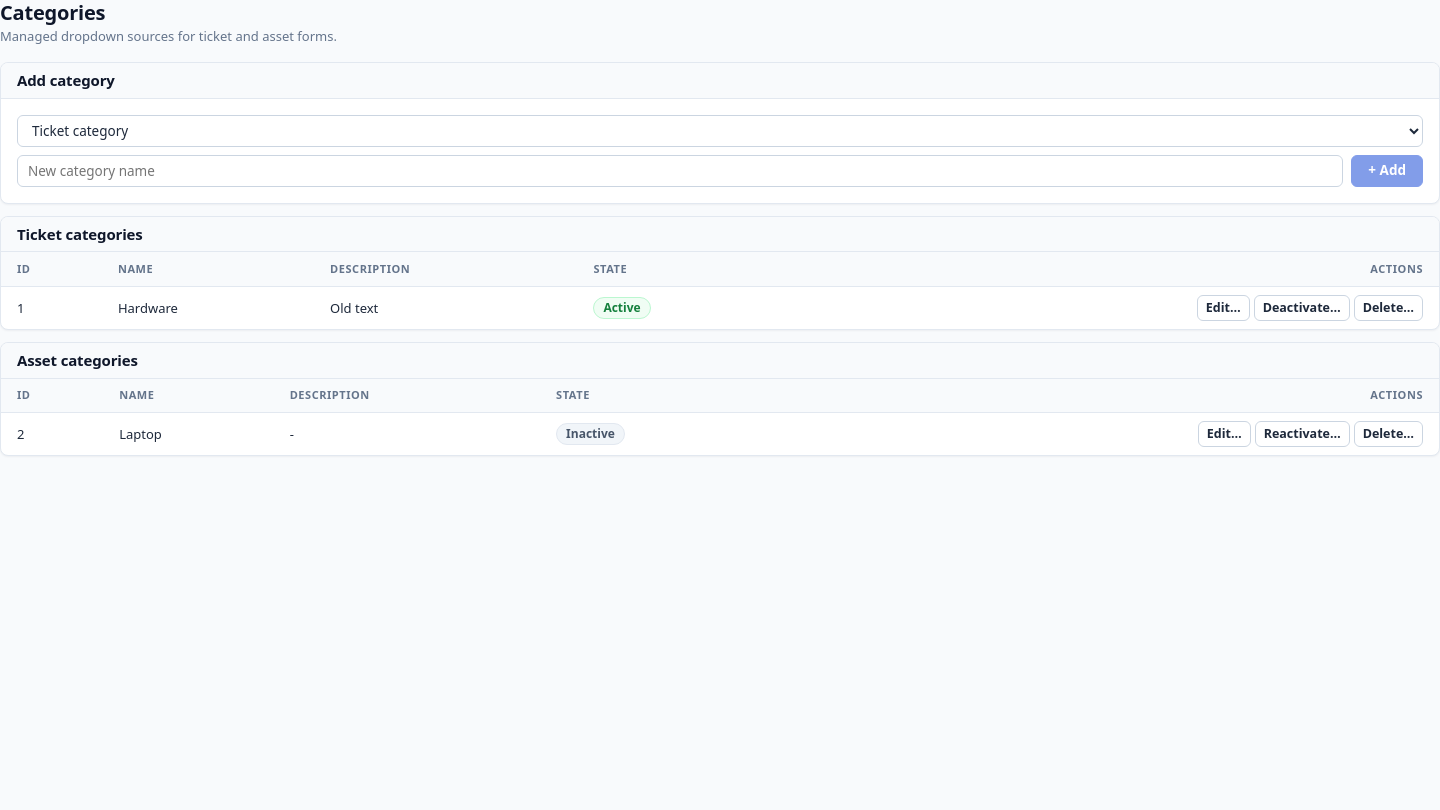
Test: Categories page › rejects blank names: disabled save + Enter still hits validation
Expected: the text "Hardware" is shown, [106,286,318,329]
Step 1. Click the button "Edit…" in the row of "Hardware" → (1223,308), box [1197,295,1250,321]
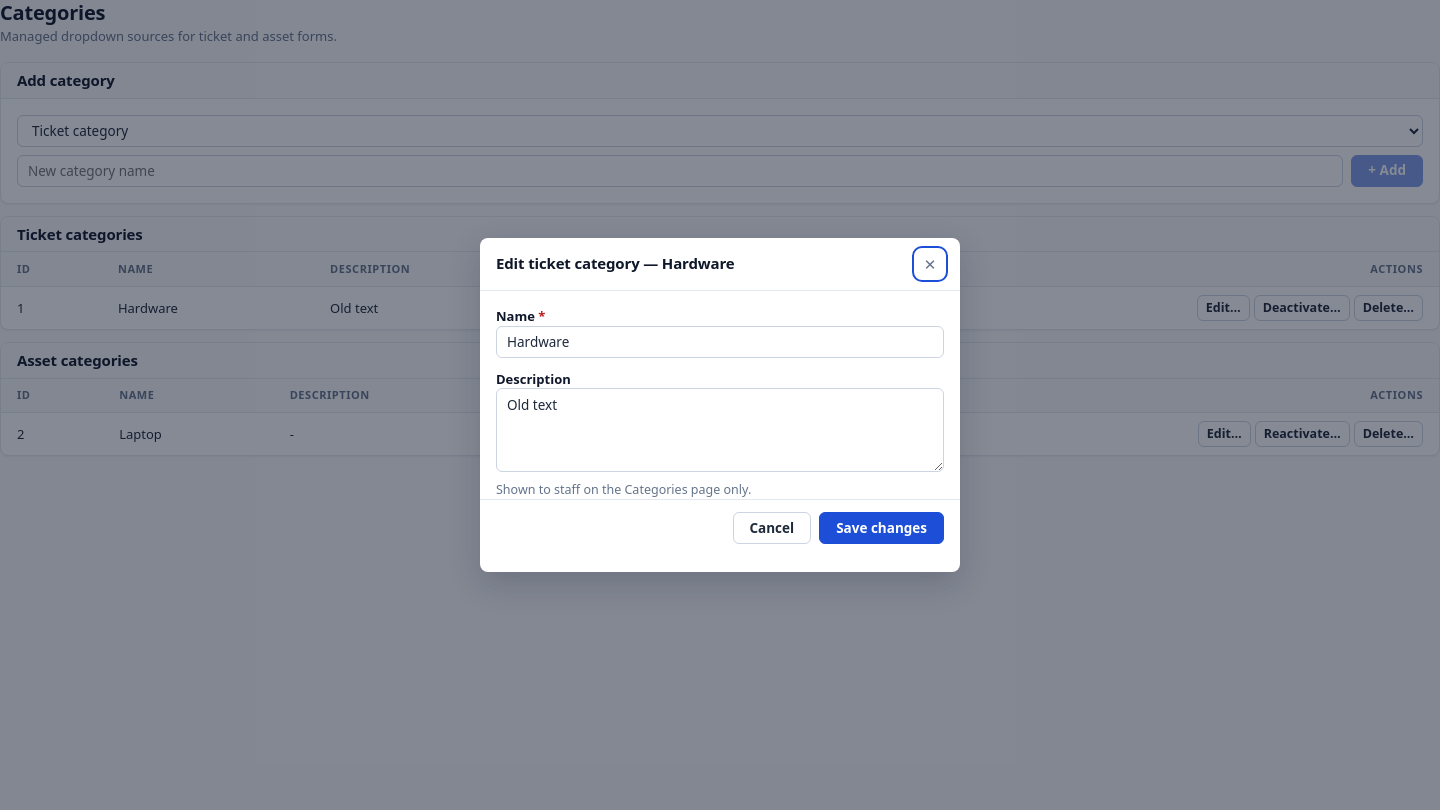
Step 2. Clear the field labelled "Name *" → (720,342), box [496,326,944,358]
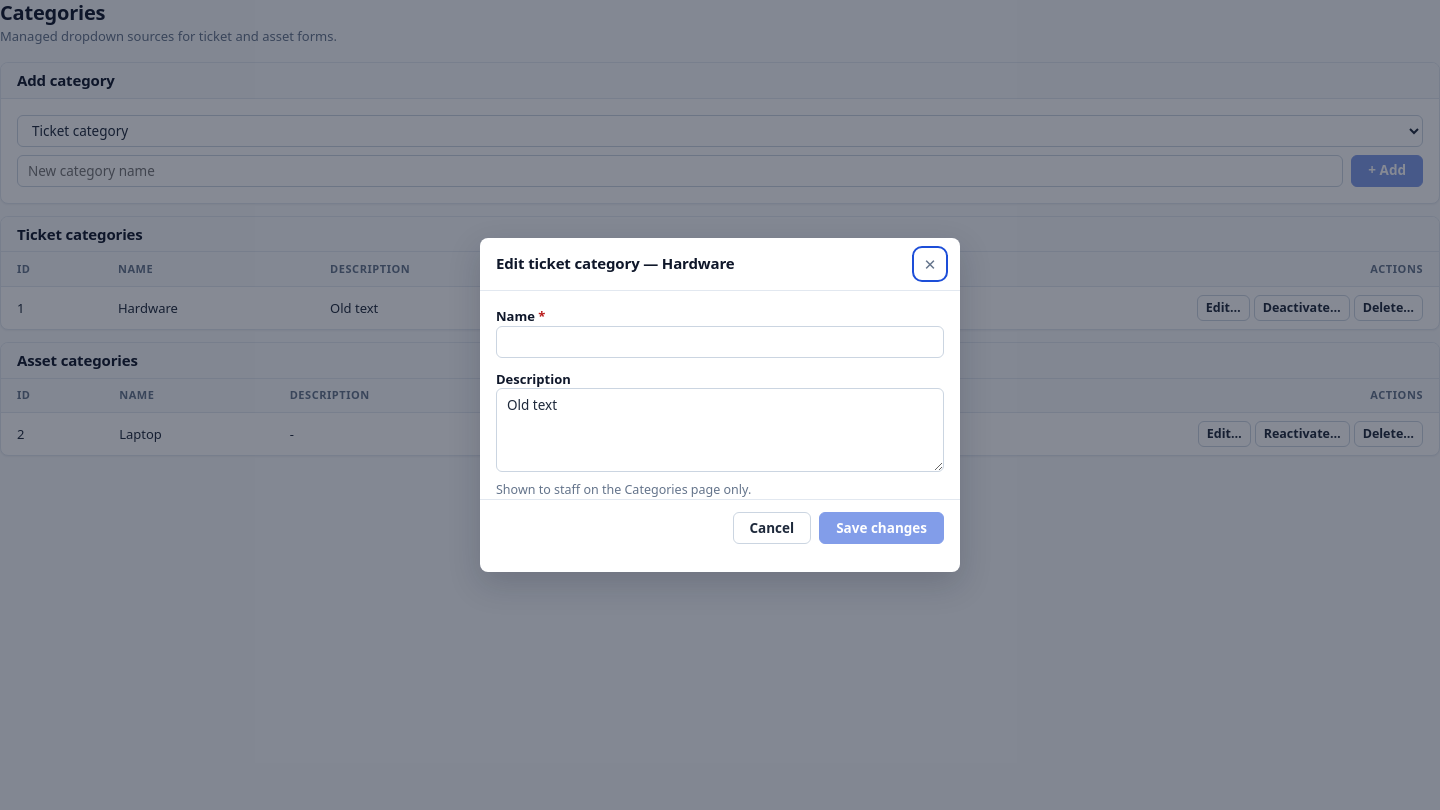
Expected: the button "Save changes" is disabled, [819,512,944,544]
Secondary guard: a programmatic submit (Enter) shows the field error.
Step 3. Submit the form labelled "Name", box [496,307,944,572]
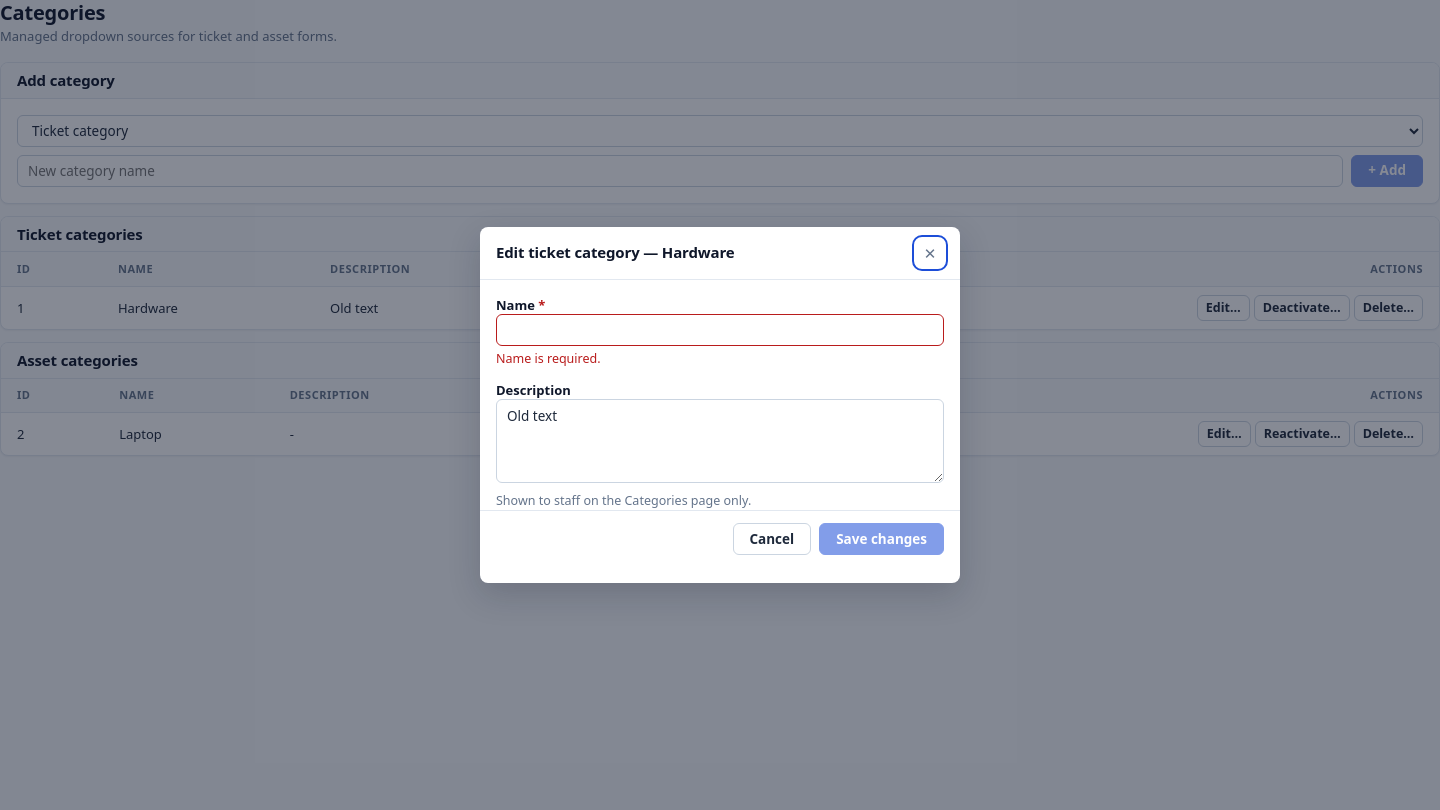
Expected: the text "Name is required." is shown, [496,350,601,368]
